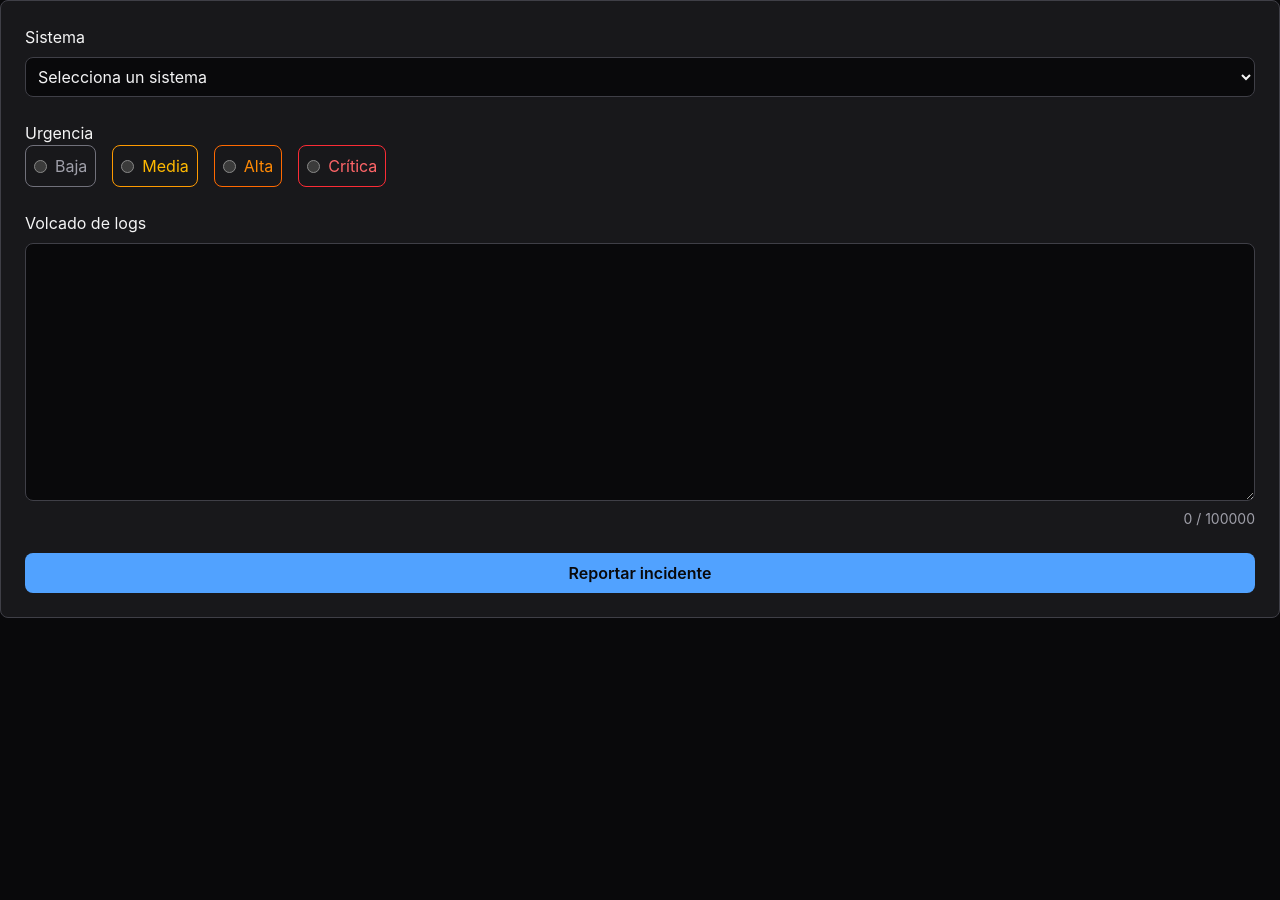
Test: IncidentReportForm › muestra un banner con role="alert" y vuelve a habilitar el formulario cuando el backend responde error
The width and height of the screenshot is (1280, 900).
Select "payment-gateway" in the dropdown labelled "Sistema" at (640, 77), box [25,57,1255,97]
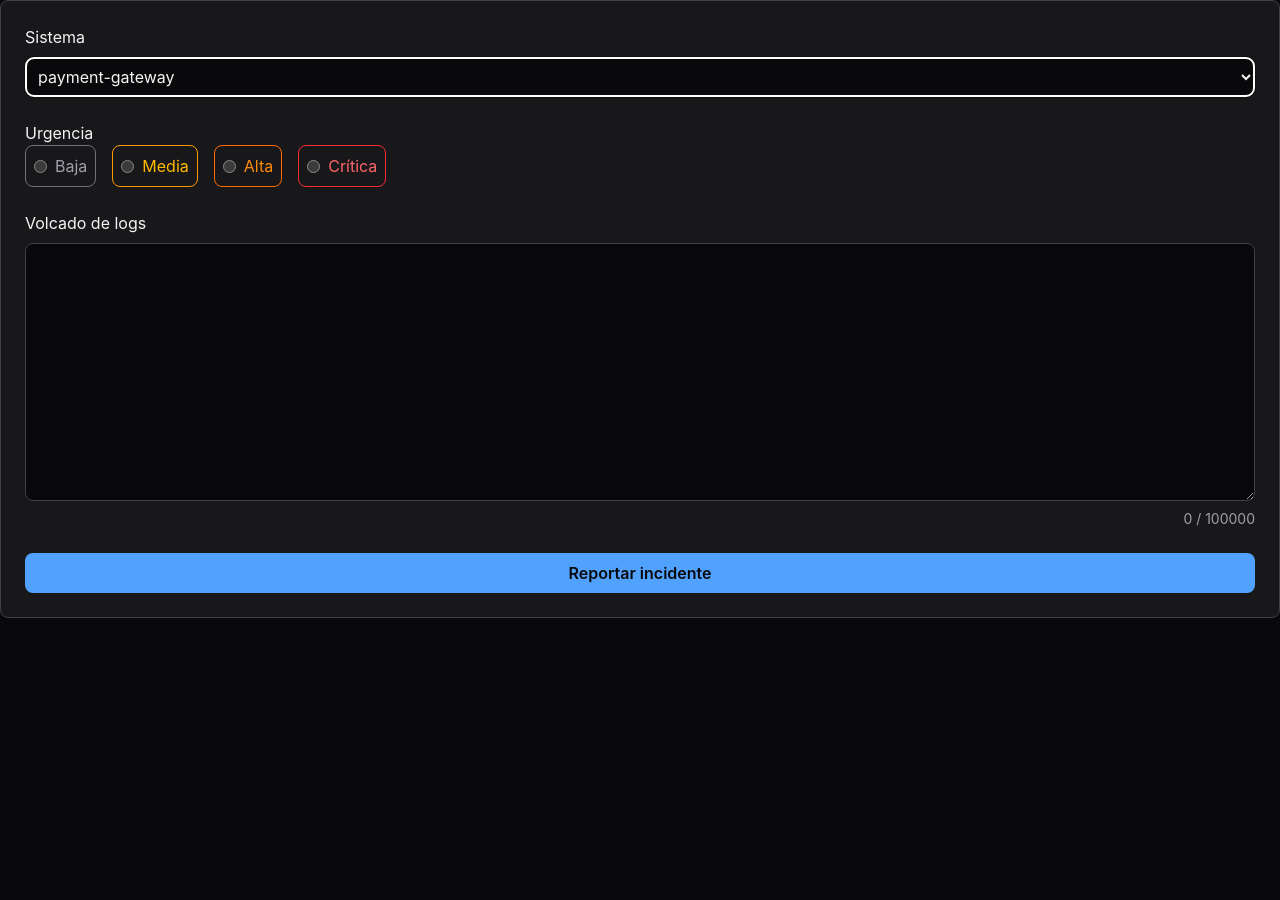
Click the radio button labelled "Crítica" at (314, 166), box [307,160,320,172]
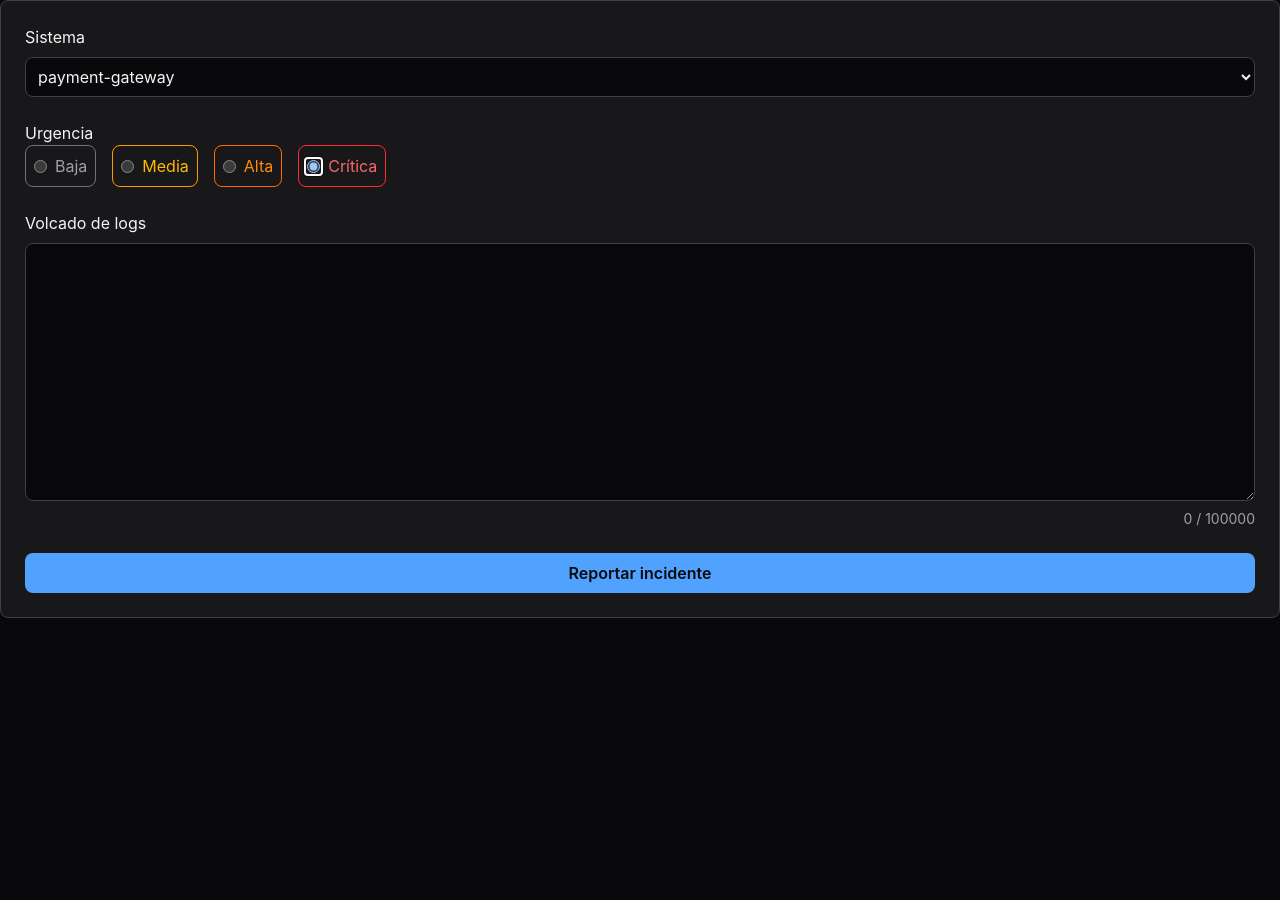
Type "ERROR: connection pool exhausted after 30000ms" into the text box labelled "Volcado de logs" at (640, 372), box [25,243,1255,501]
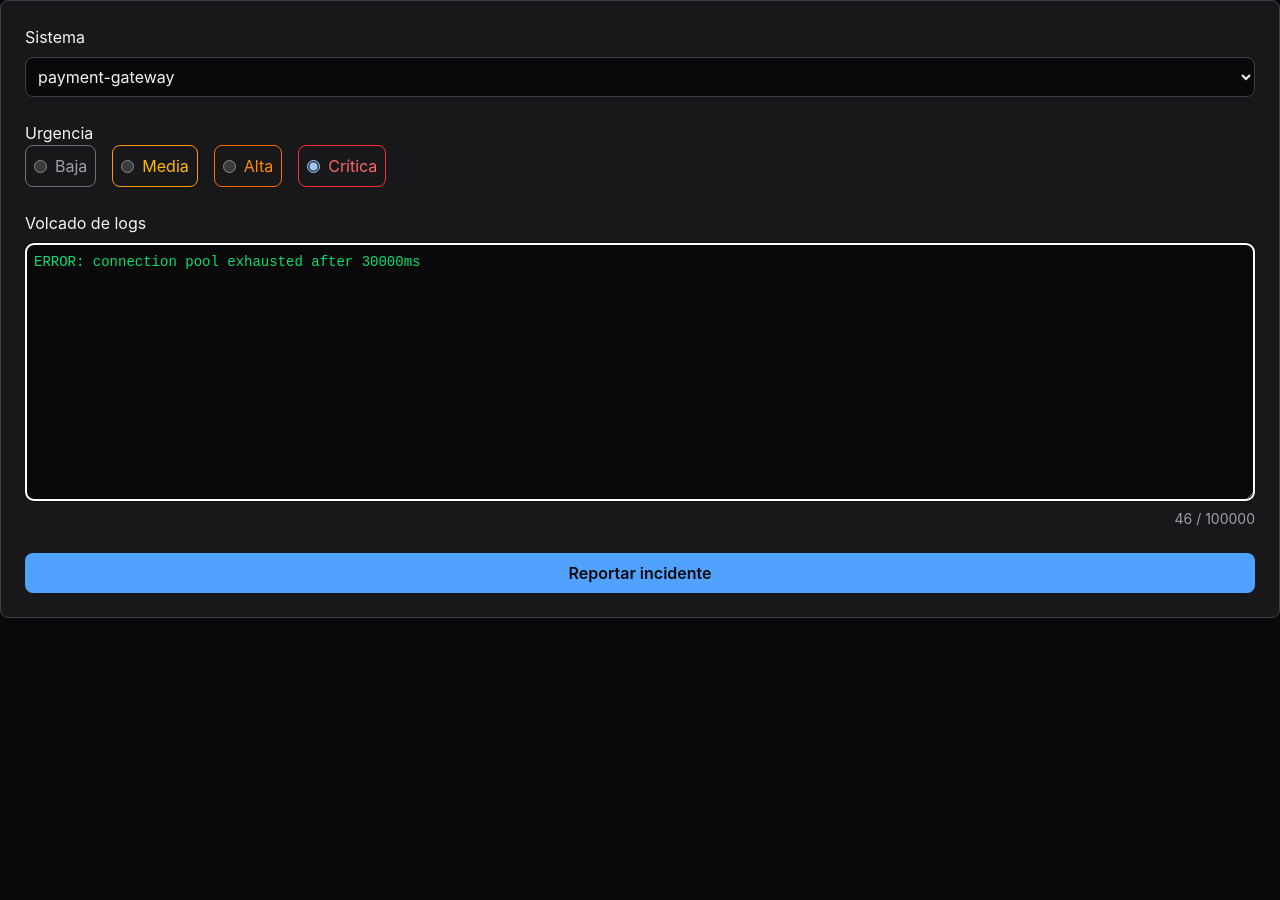
Click the button "Reportar incidente" at (640, 573), box [25,553,1255,593]
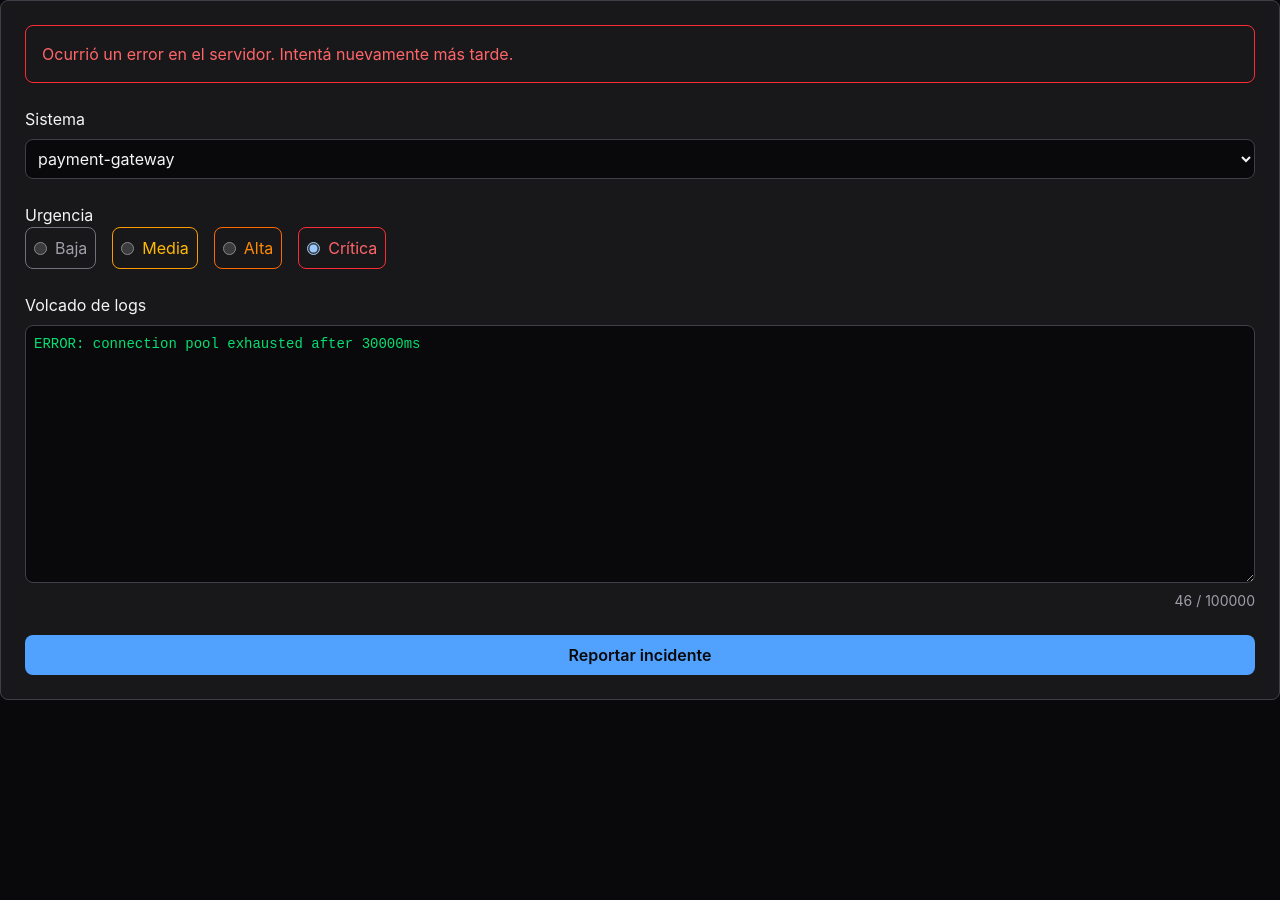
Expected: the button "Reportar incidente" is enabled, [25,635,1255,675]
Result: the message "Ocurrió un error en el servidor. Intentá nuevamente más tarde." is shown at [25,25,1255,83]
